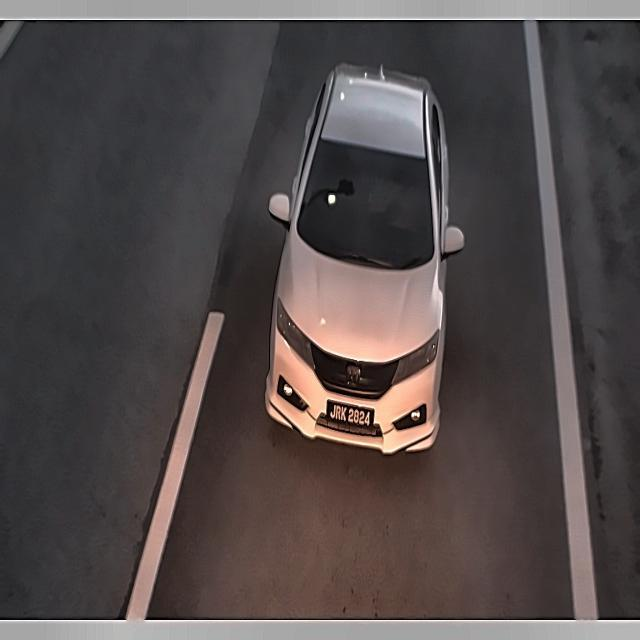car: (326, 396, 376, 438)
